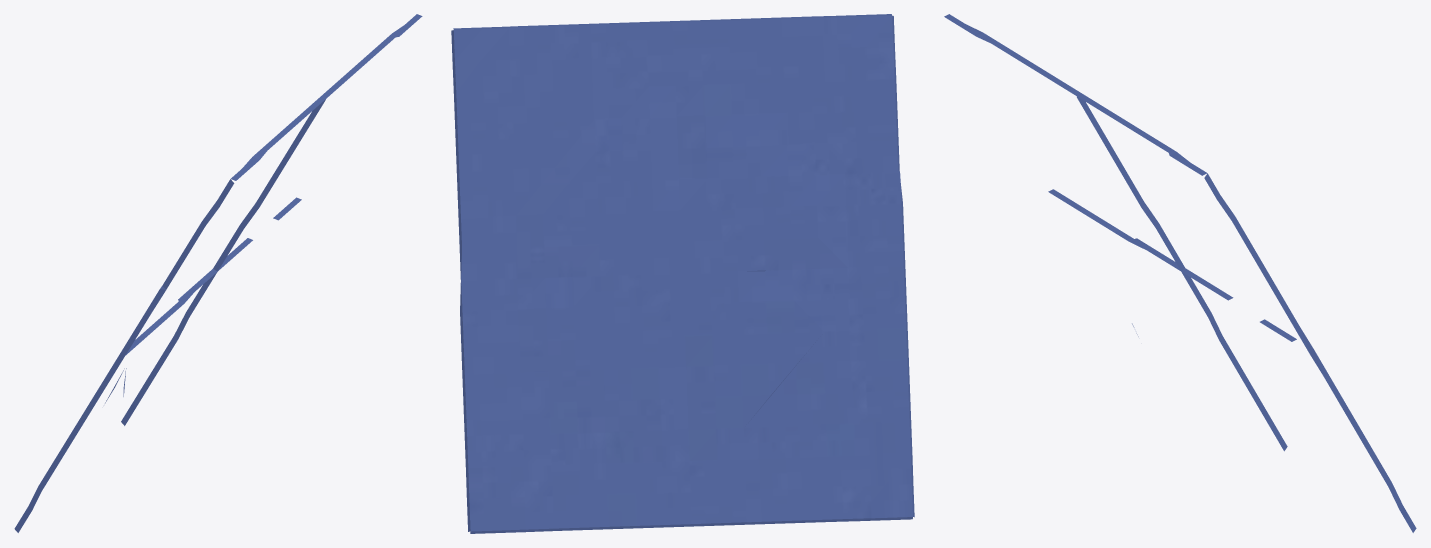
3 views of the same model, side by side, from view 1: azimuth 30°, elevation 25°; view 2: azimuth 150°, elevation 25°; view 3: azimuth 270°, elevation 25° (orthographic). The views are drawn at different scales.
Size of the model in its own units: 157677 by 139014 by 141872.
Materials: 1 (1 with a texture image).
